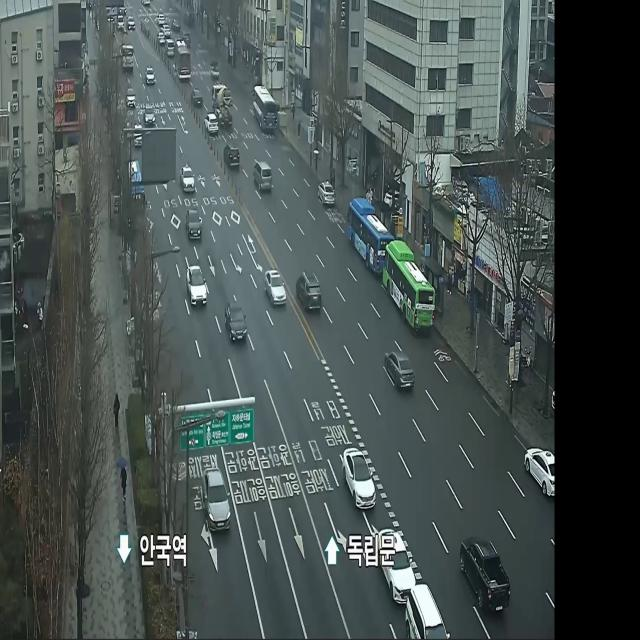car: (384, 240, 436, 335), (346, 196, 395, 282), (250, 81, 278, 136)
motorcycle: (461, 533, 512, 620), (342, 439, 377, 515), (202, 468, 232, 537), (381, 345, 415, 395), (525, 443, 554, 498), (298, 266, 324, 318), (223, 299, 249, 348), (185, 264, 211, 310), (264, 267, 288, 311), (254, 157, 274, 197), (185, 206, 203, 247), (225, 137, 242, 176), (179, 164, 198, 197)
